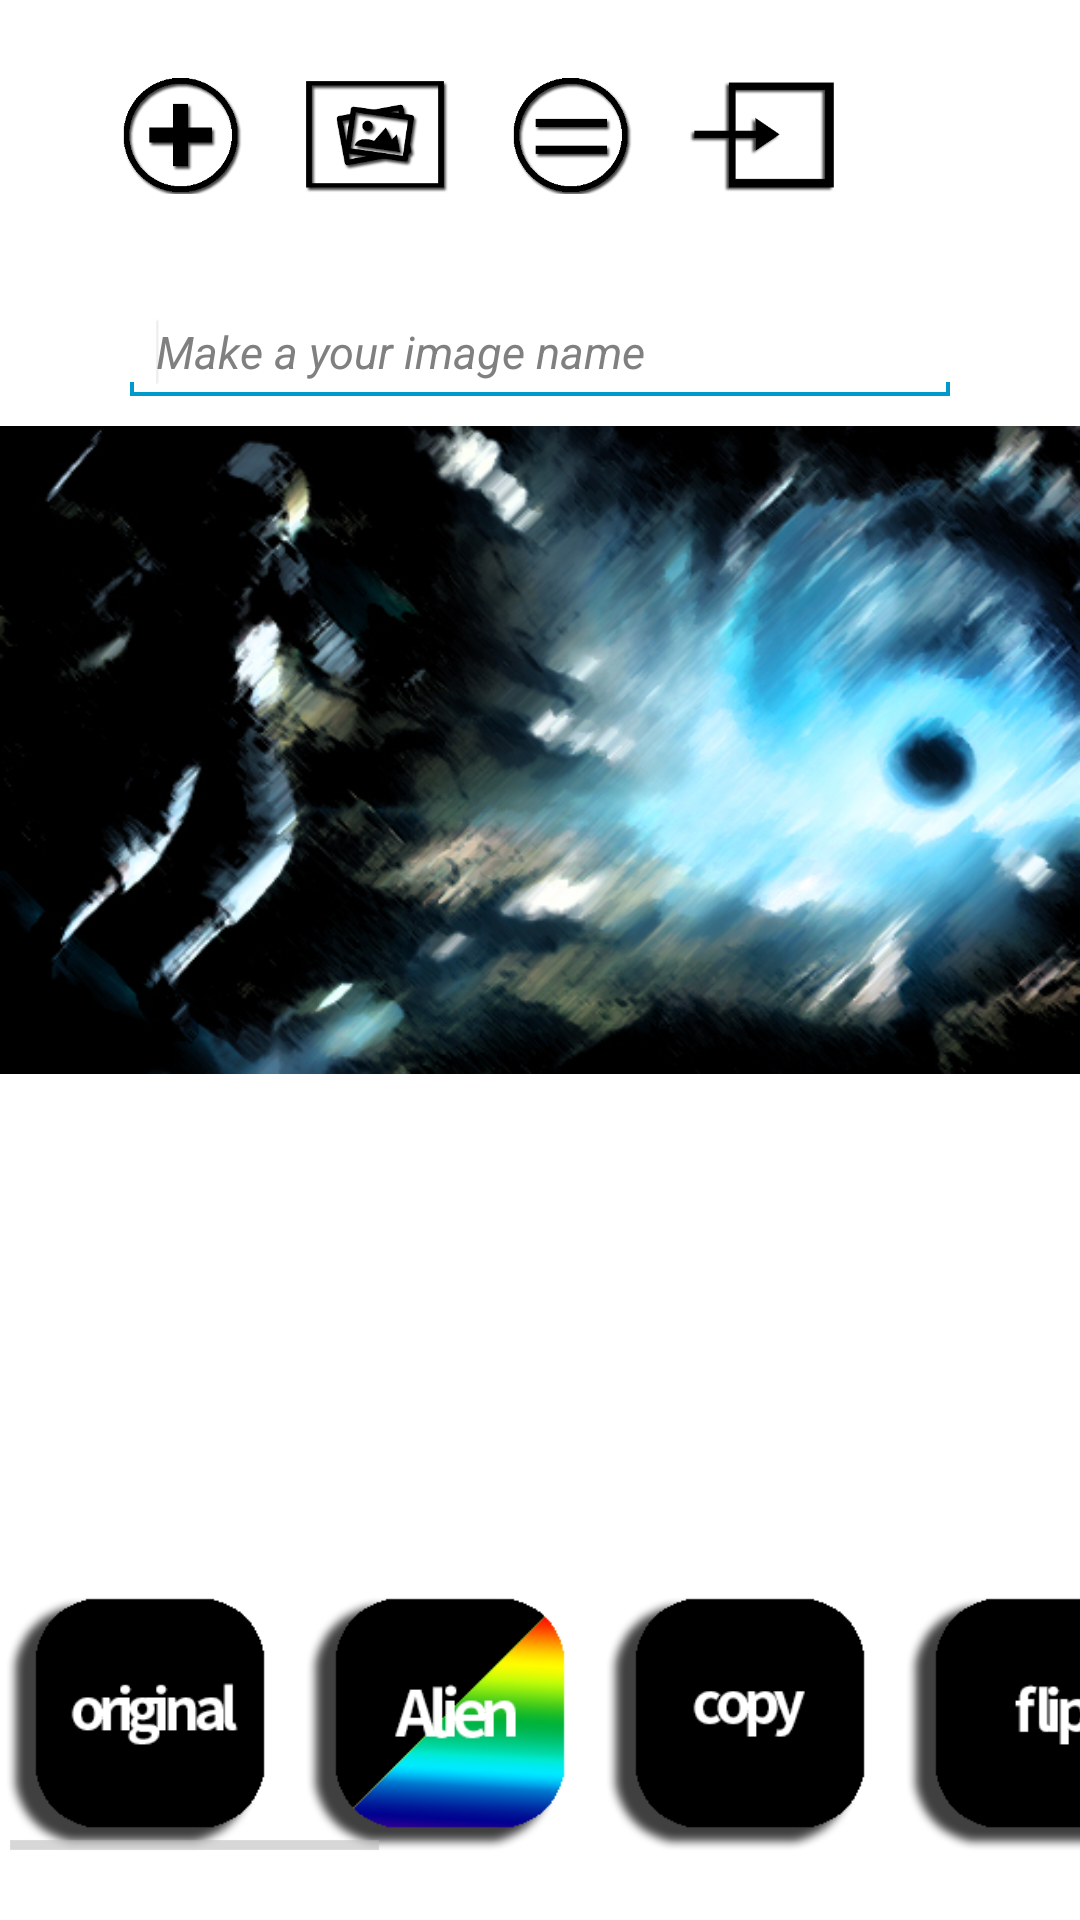

Icon click points for this 1080 × 1920 phone screenshot, format [x,y]:
add: [182,136]
phonegallery: [376,136]
save: [762,136]
